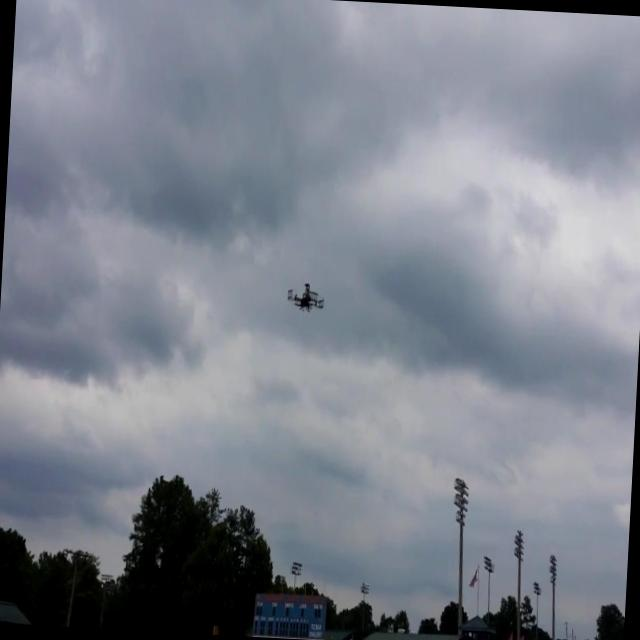drone: (285, 281, 327, 316)
